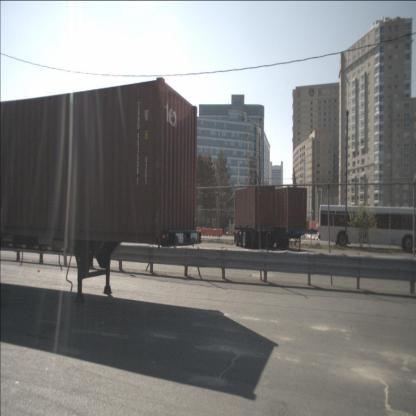barrier: (196, 227, 206, 237), (214, 228, 223, 238), (206, 228, 214, 236)
